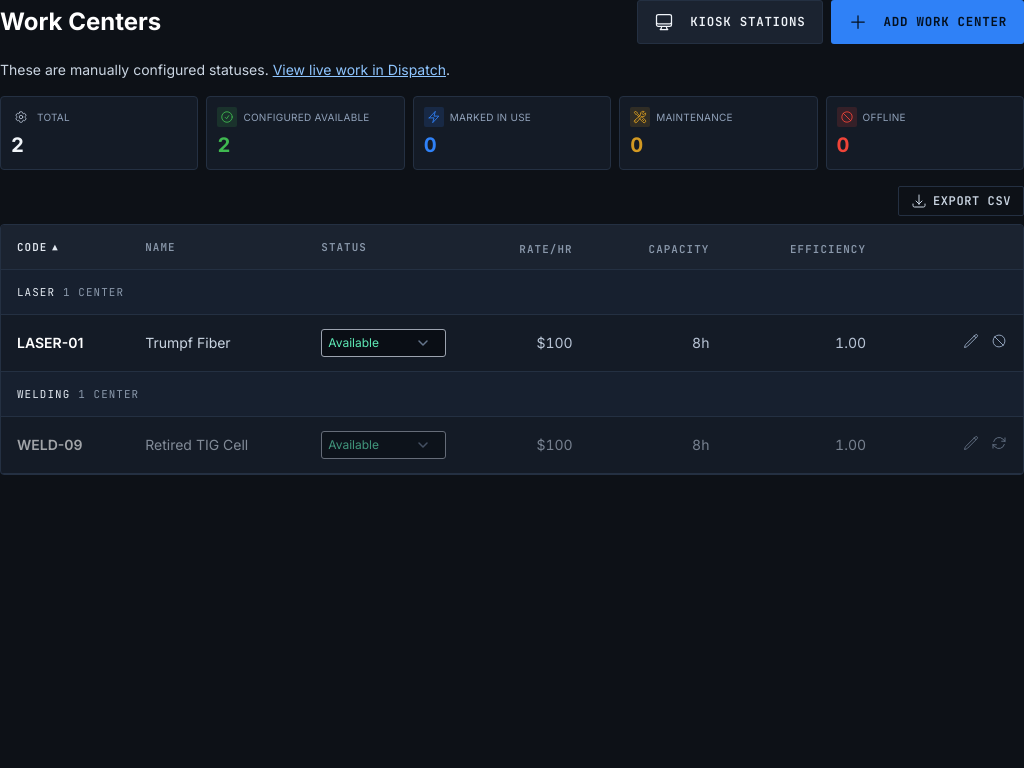
WorkCenters deactivate / reactivate controls › deactivates through the warning confirm dialog and reloads on success
Click the button named "Deactivate LASER-01": (999, 341) [991, 333, 1007, 349]
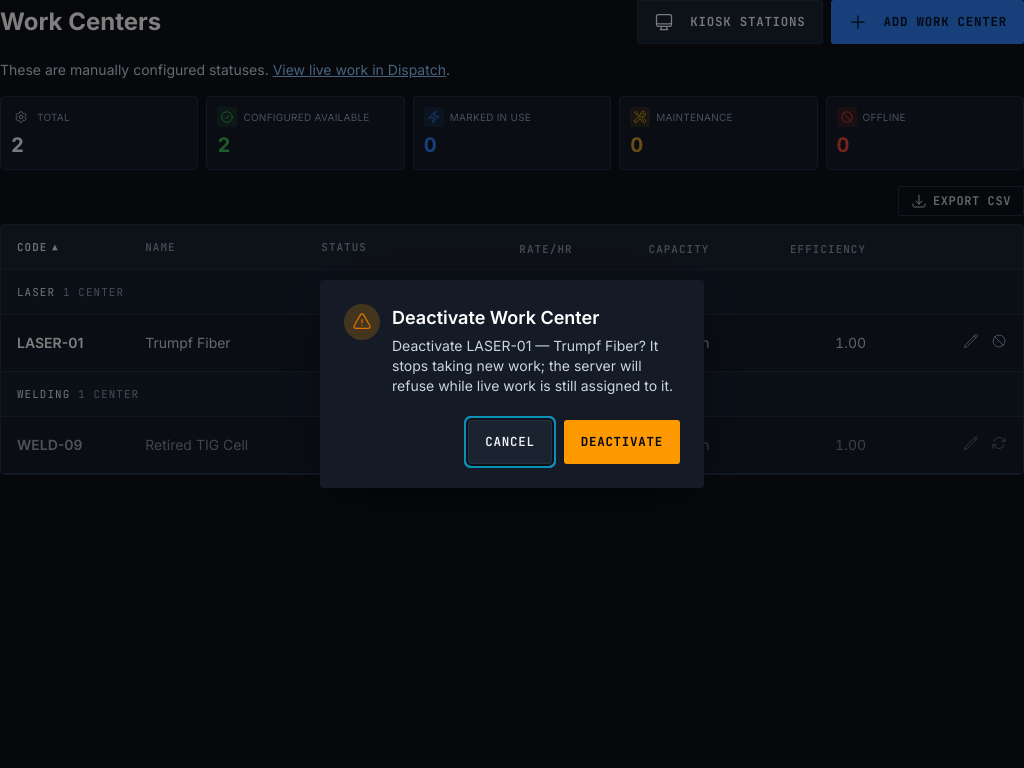
Now the text "Deactivate LASER-01 — Trumpf Fiber?" is shown, box [392, 337, 673, 394]
Click the button "Deactivate": (622, 442) [564, 420, 680, 464]
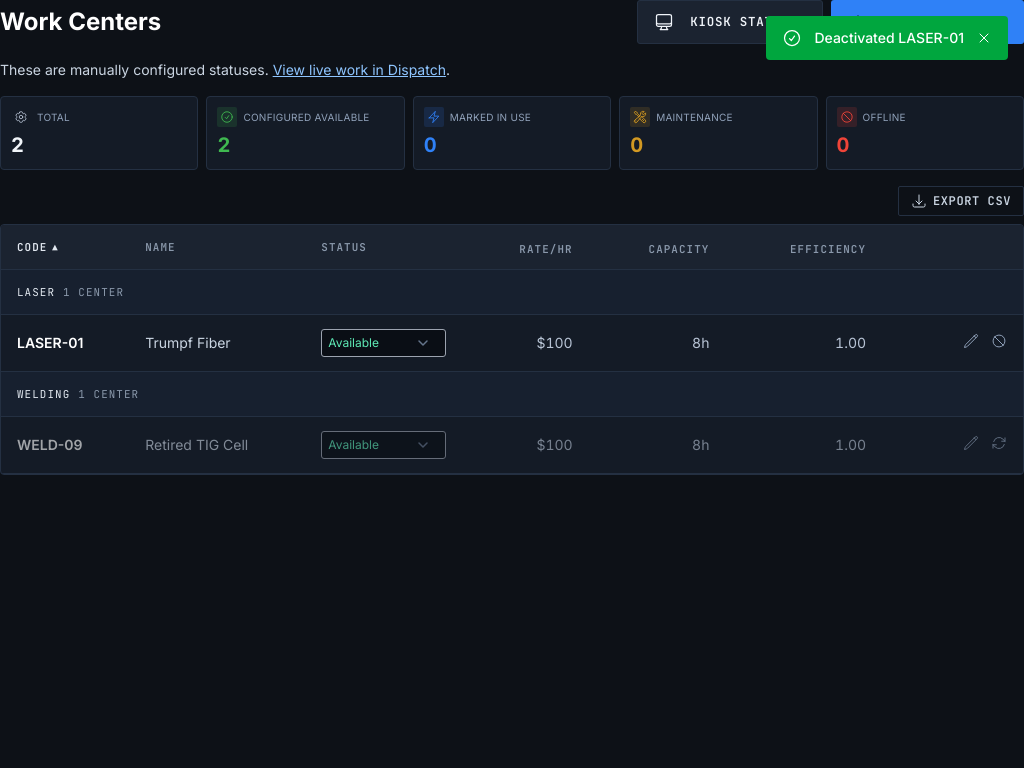
Now the dialog is gone
Now the text "Deactivated LASER-01" is shown, box [814, 28, 964, 48]
